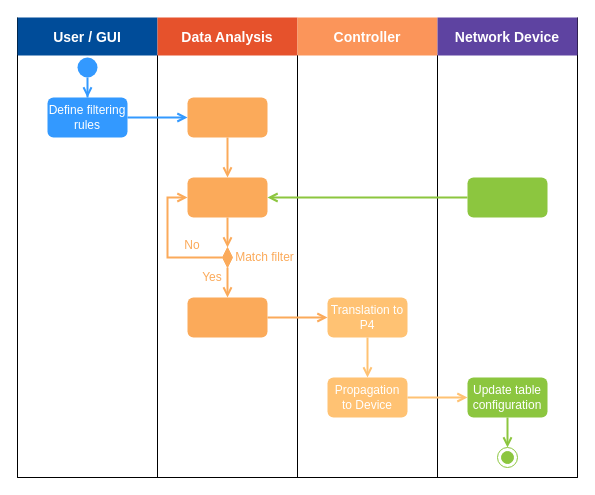
Image size: 595x495. Some labels were removed from this diagram. The centre of each missing label's shape, as x and y in pixels:
"Create set or rule for controller" goes at pixel 227 317.
"Periodic telemetry data" goes at pixel 507 197.
"Process of incoming data" goes at pixel 227 197.
"Store rules" goes at pixel 227 117.
